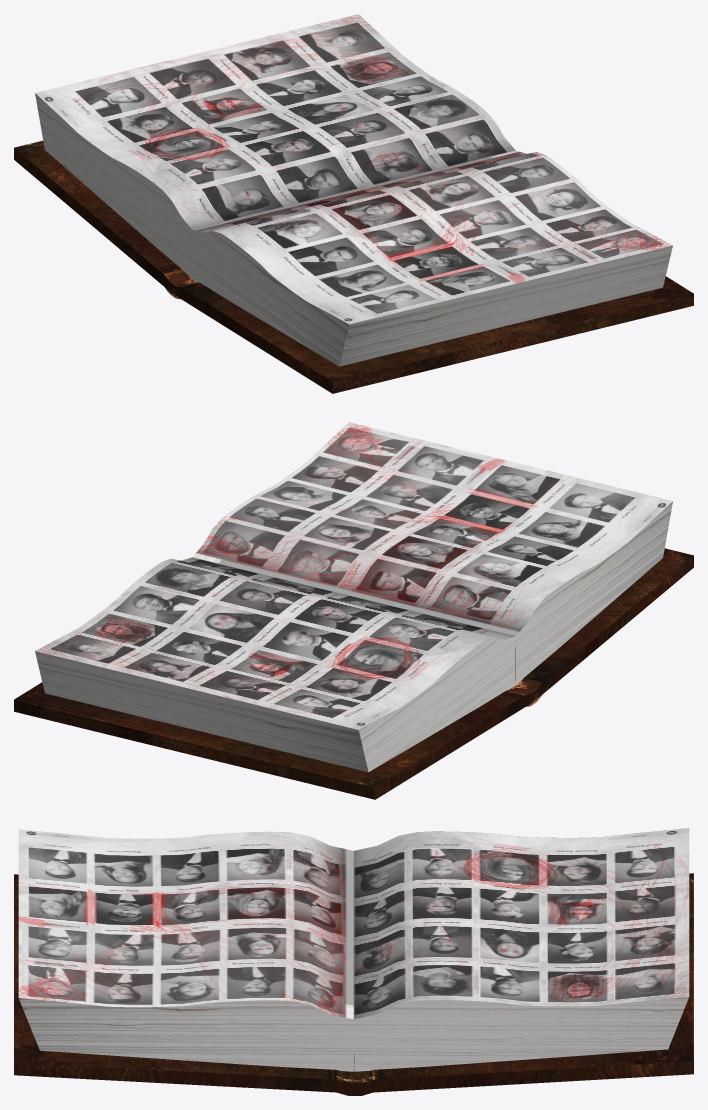
The model's file is yearbook.fbx.
3 views of the same model, one above another, from view 1: azimuth 30°, elevation 25°; view 2: azimuth 150°, elevation 25°; view 3: azimuth 270°, elevation 25° (orthographic). The views are drawn at different scales.
Visible parts, largest first — view 1: pCube5; view 2: pCube5; view 3: pCube5.
Part boxes in pixels (<box>): pCube5: <box>14,14,693,393</box>; pCube5: <box>14,422,693,799</box>; pCube5: <box>14,828,693,1095</box>.
Size of the model in its own units: 3.53 by 0.7835 by 5.39.
2 materials, 2 textured.
